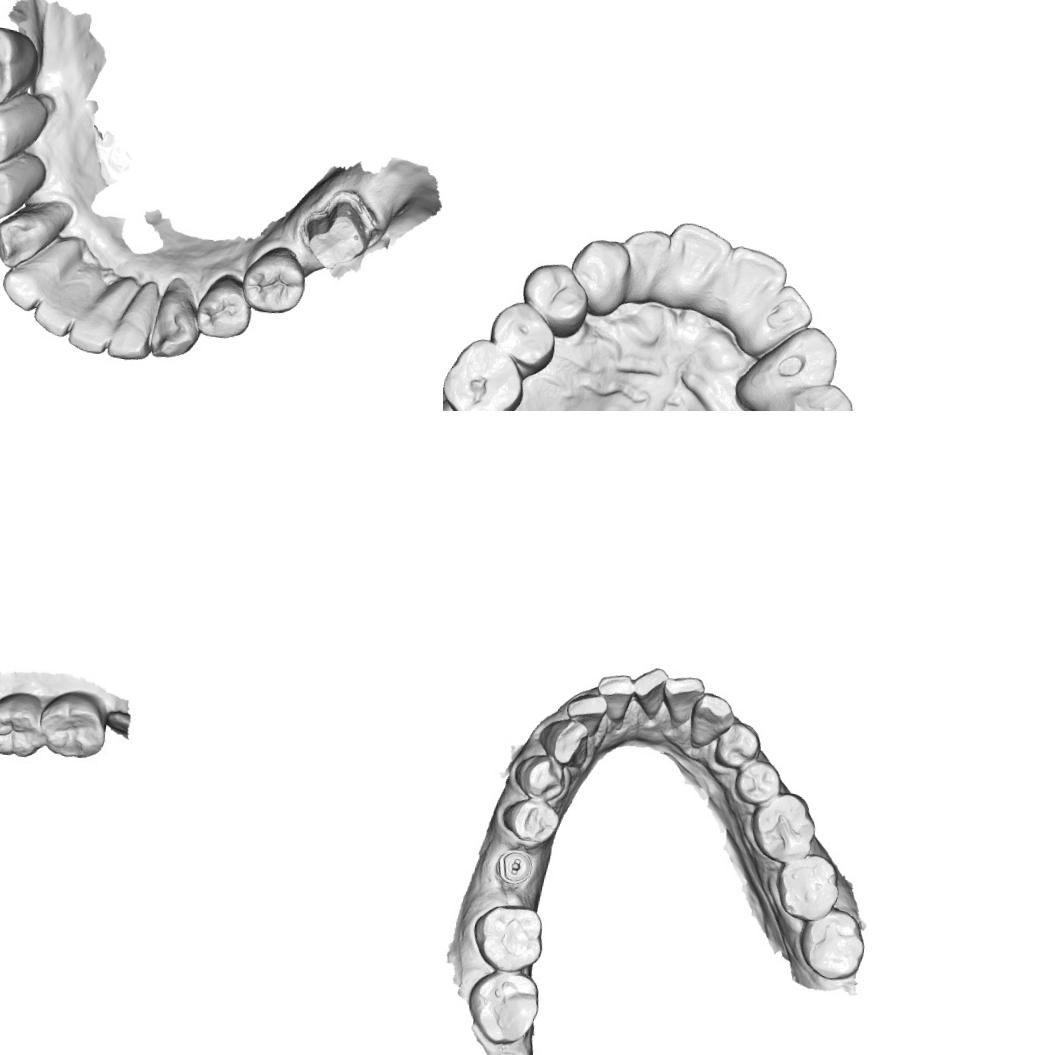canine: (750, 319, 841, 404), (144, 274, 204, 365), (566, 235, 634, 312), (0, 205, 64, 274), (534, 714, 592, 772), (686, 689, 738, 751)
crown: (297, 187, 382, 276)
implant_minus: (495, 847, 536, 887)
incisor: (662, 219, 734, 295), (0, 238, 67, 315), (712, 242, 791, 306), (64, 276, 124, 358), (105, 283, 158, 362), (30, 272, 88, 342), (618, 226, 672, 292), (759, 280, 817, 339), (658, 671, 707, 732), (592, 669, 638, 725), (562, 688, 610, 740), (628, 664, 671, 721)
molar: (461, 966, 544, 1050), (443, 332, 528, 411), (746, 787, 823, 868), (468, 899, 548, 976), (794, 904, 870, 985), (770, 848, 844, 927), (40, 690, 110, 764), (0, 692, 49, 761), (0, 21, 29, 113)
premolar: (514, 258, 595, 340), (239, 241, 311, 318), (485, 298, 558, 373), (192, 270, 256, 344), (498, 794, 562, 850), (510, 749, 570, 806), (767, 374, 858, 411), (730, 756, 784, 810), (711, 718, 765, 772), (0, 96, 28, 169), (0, 156, 29, 224)
